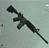gun: (1, 1, 49, 48)
